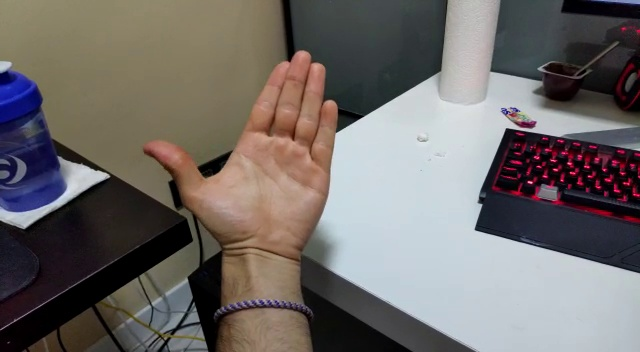Palm: (145, 48, 340, 258)
